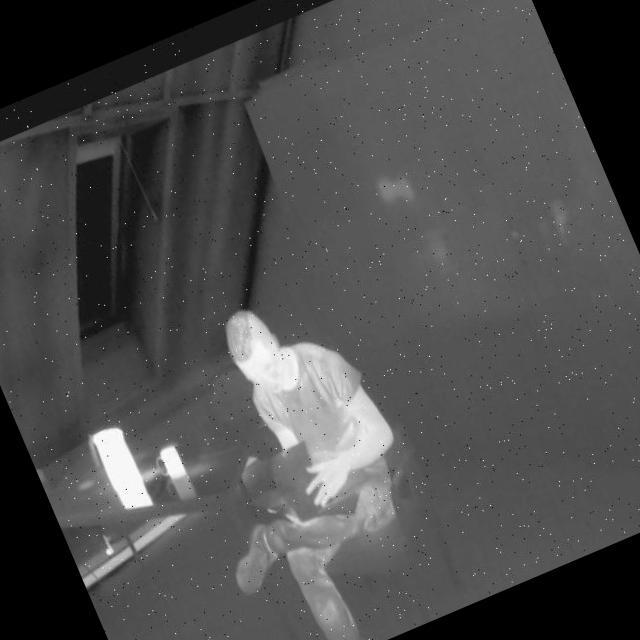person: (132, 269, 468, 640)
